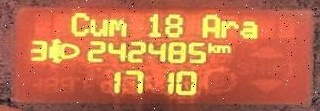0: (174, 69, 198, 96)
1: (144, 11, 161, 37), (160, 69, 175, 94), (108, 68, 122, 93)
2: (125, 40, 146, 64), (84, 39, 104, 63)
3: (27, 38, 48, 61)
4: (144, 40, 165, 63), (106, 40, 125, 61)
5: (187, 40, 205, 63)
7: (122, 67, 144, 93)
8: (162, 11, 183, 38), (166, 40, 185, 63)
X: (198, 11, 219, 39), (67, 10, 88, 37), (237, 19, 259, 39), (87, 16, 106, 37), (219, 17, 238, 38), (107, 18, 126, 37), (215, 42, 231, 54), (205, 40, 215, 53)
